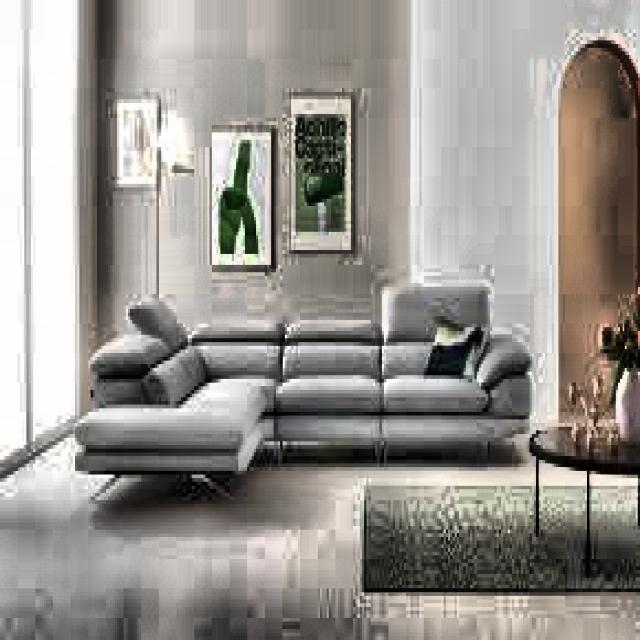sofa: (86, 287, 525, 500)
